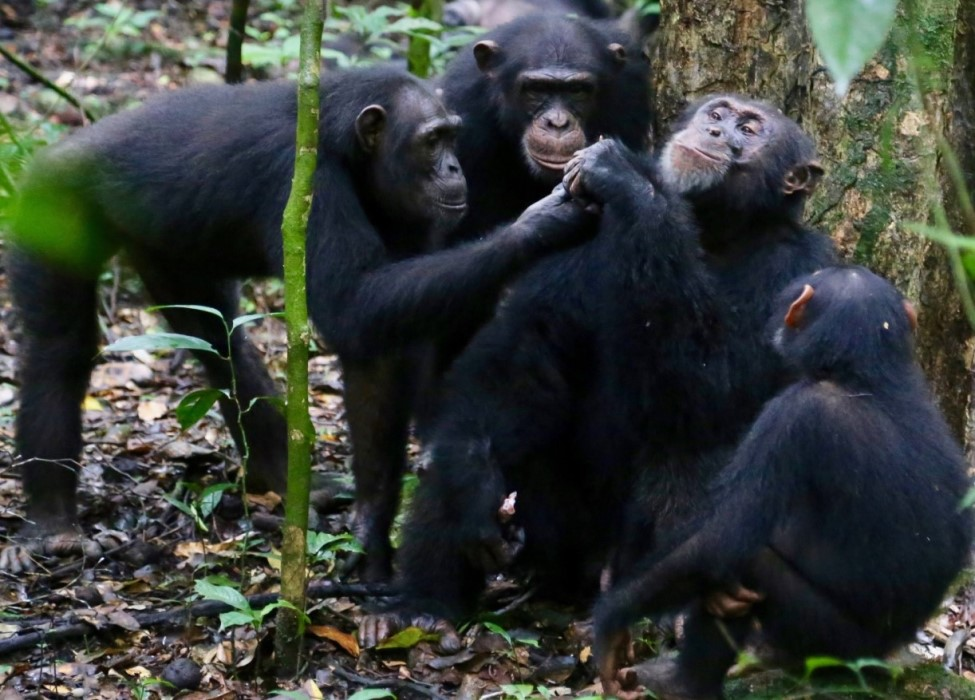Chimpanzee: (15, 67, 482, 517), (450, 105, 829, 582), (673, 260, 967, 662), (435, 27, 675, 175)
